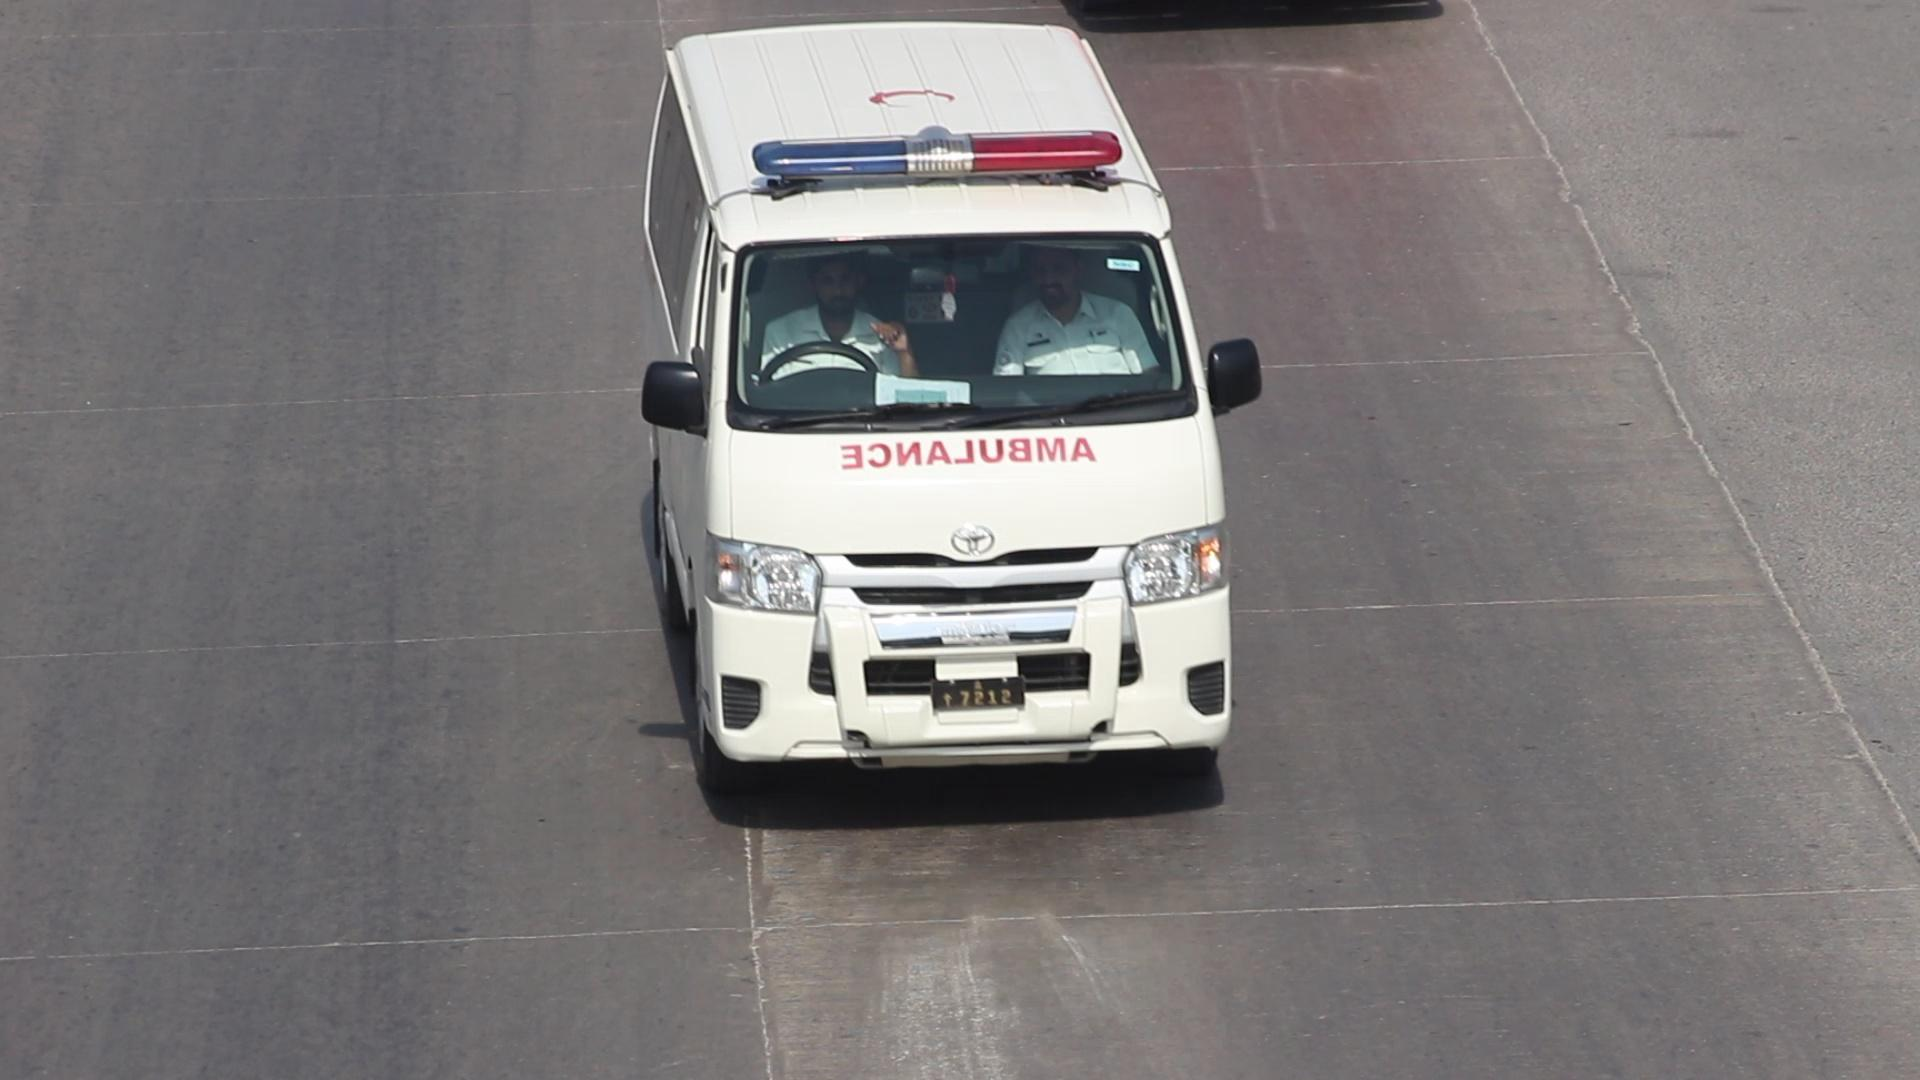windshield: (717, 227, 1213, 447)
